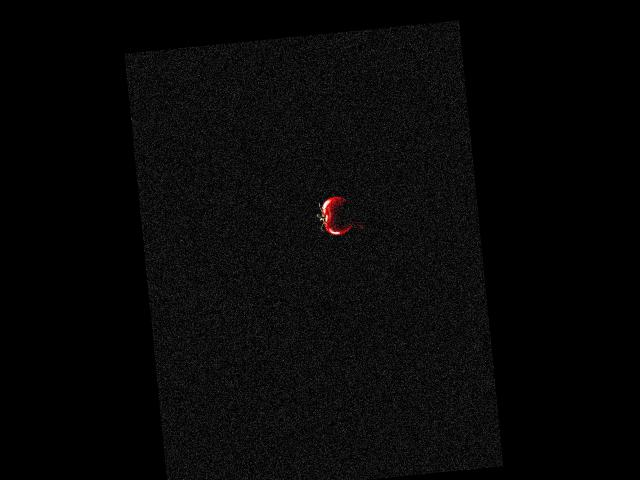tomato: (319, 194, 354, 236)
